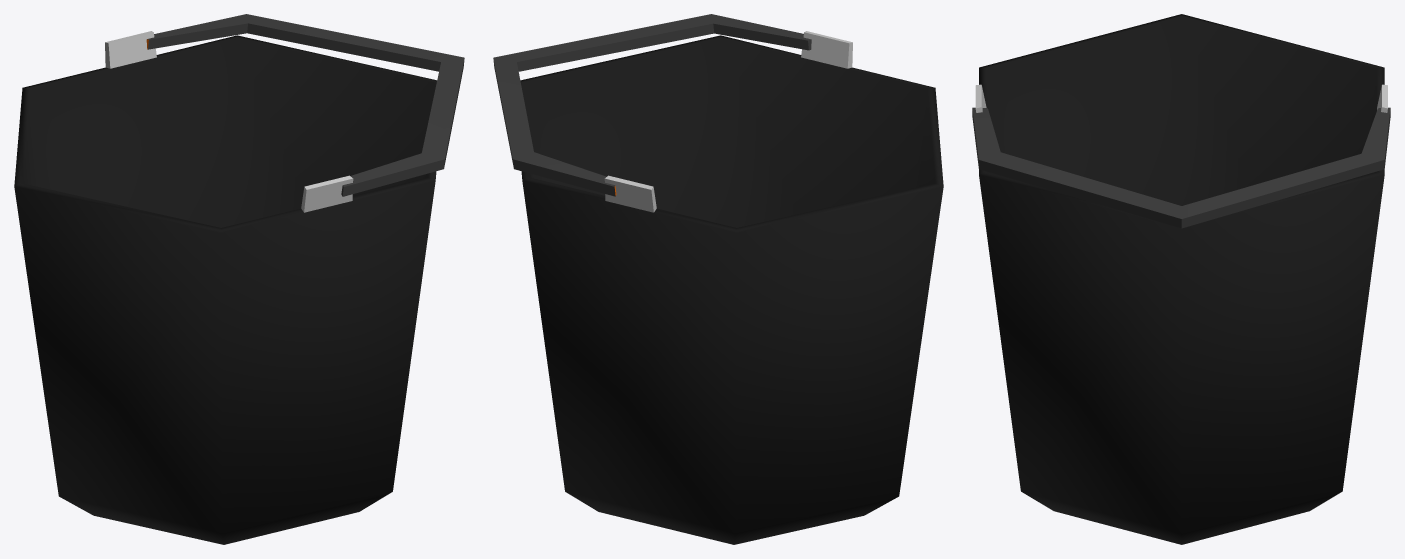
Rendered from Bucket_D.FBX.
The picture shows the model from 3 angles, left to right: view 1: azimuth 30°, elevation 25°; view 2: azimuth 150°, elevation 25°; view 3: azimuth 270°, elevation 25°; orthographic projection. The views are drawn at different scales.
Visible parts, largest first — view 1: Bucket; view 2: Bucket; view 3: Bucket.
Boxes of the visible parts, bbox=[...] form: Bucket: bbox=[14, 14, 464, 544]; Bucket: bbox=[493, 14, 943, 544]; Bucket: bbox=[972, 14, 1390, 544].
Bounding box in the file's own units: 81.17 × 64.26 × 63.84.
